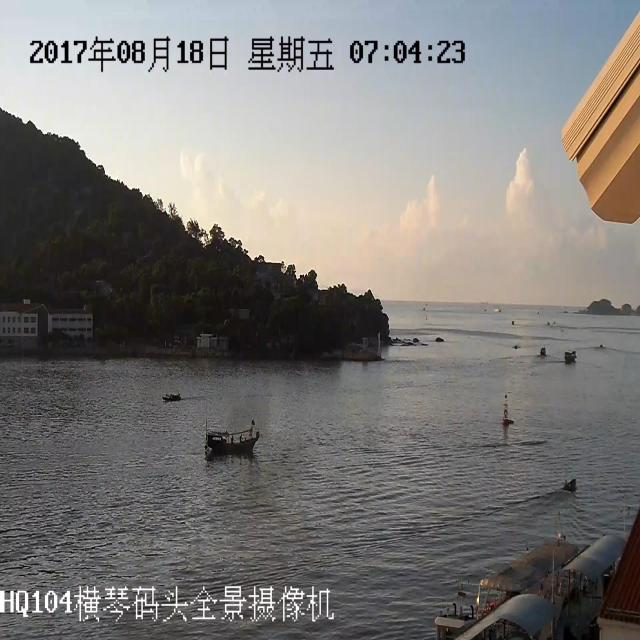buoy: (480, 390, 516, 429)
fishing boat: (192, 408, 268, 473), (156, 378, 192, 414)
reef: (574, 279, 632, 328)
